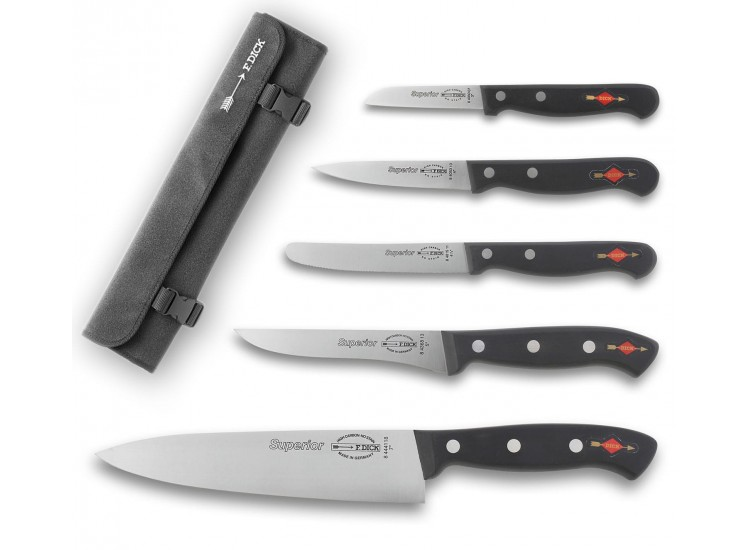knife: (96, 423, 658, 506), (235, 325, 661, 377), (312, 157, 660, 202), (282, 240, 657, 280), (364, 84, 659, 122)
